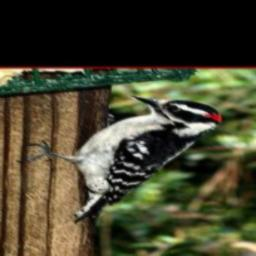Woodpecker: (12, 95, 225, 221)
